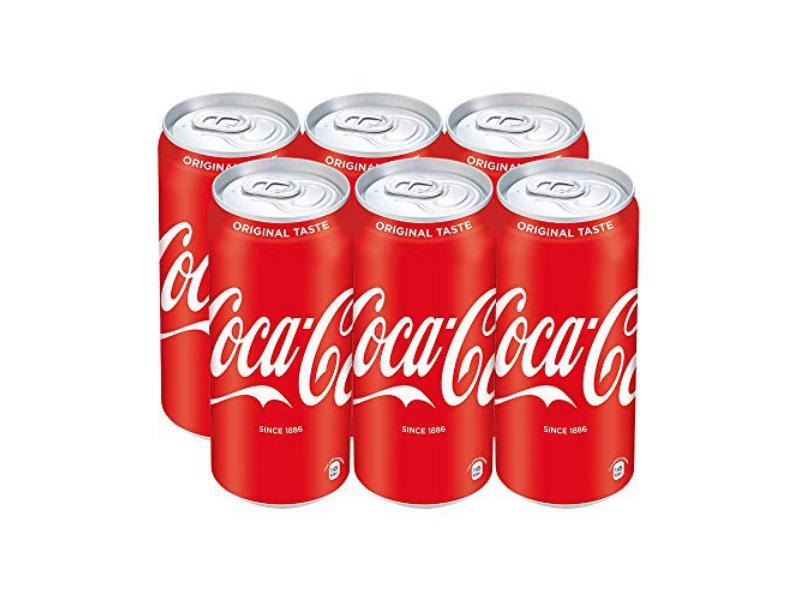can: (498, 163, 642, 510), (351, 169, 495, 509), (206, 167, 346, 512), (445, 87, 586, 155), (160, 87, 293, 157), (304, 87, 434, 157)
